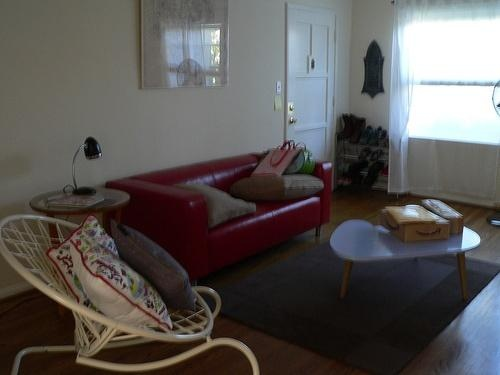chair: (1, 213, 263, 375)
sofa: (104, 151, 334, 287)
